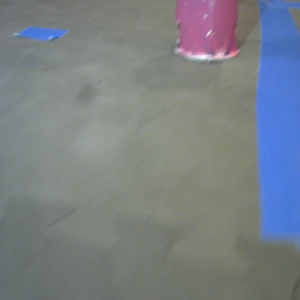right: (168, 1, 242, 64)
